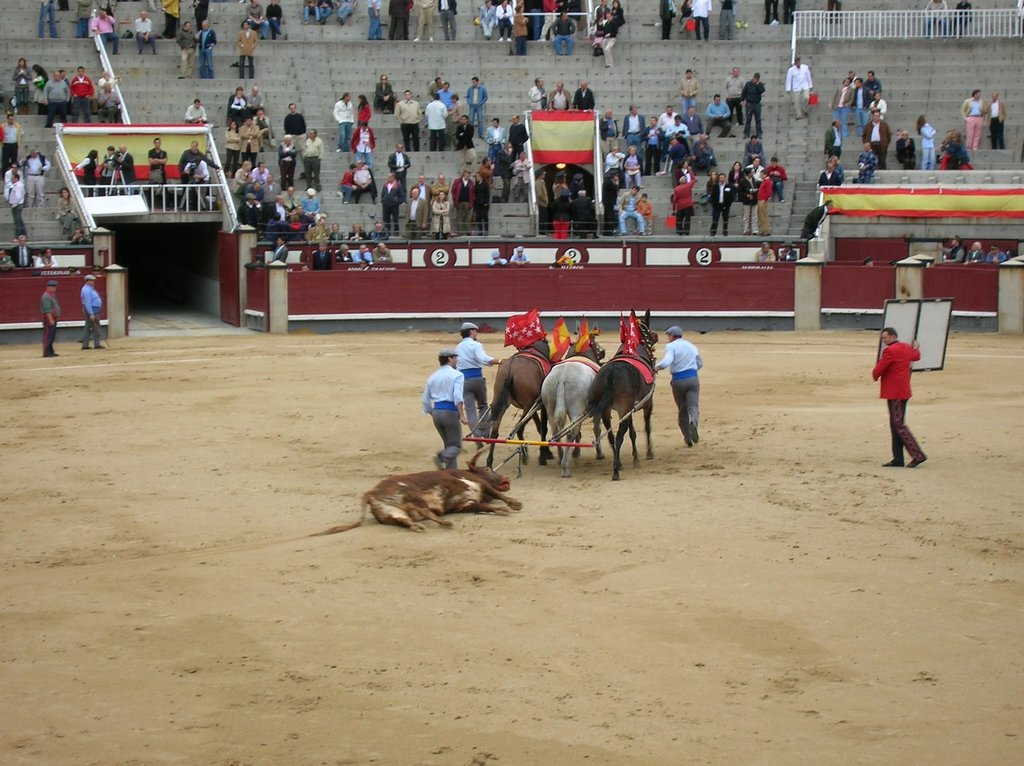Person: (0, 0, 1024, 467)
